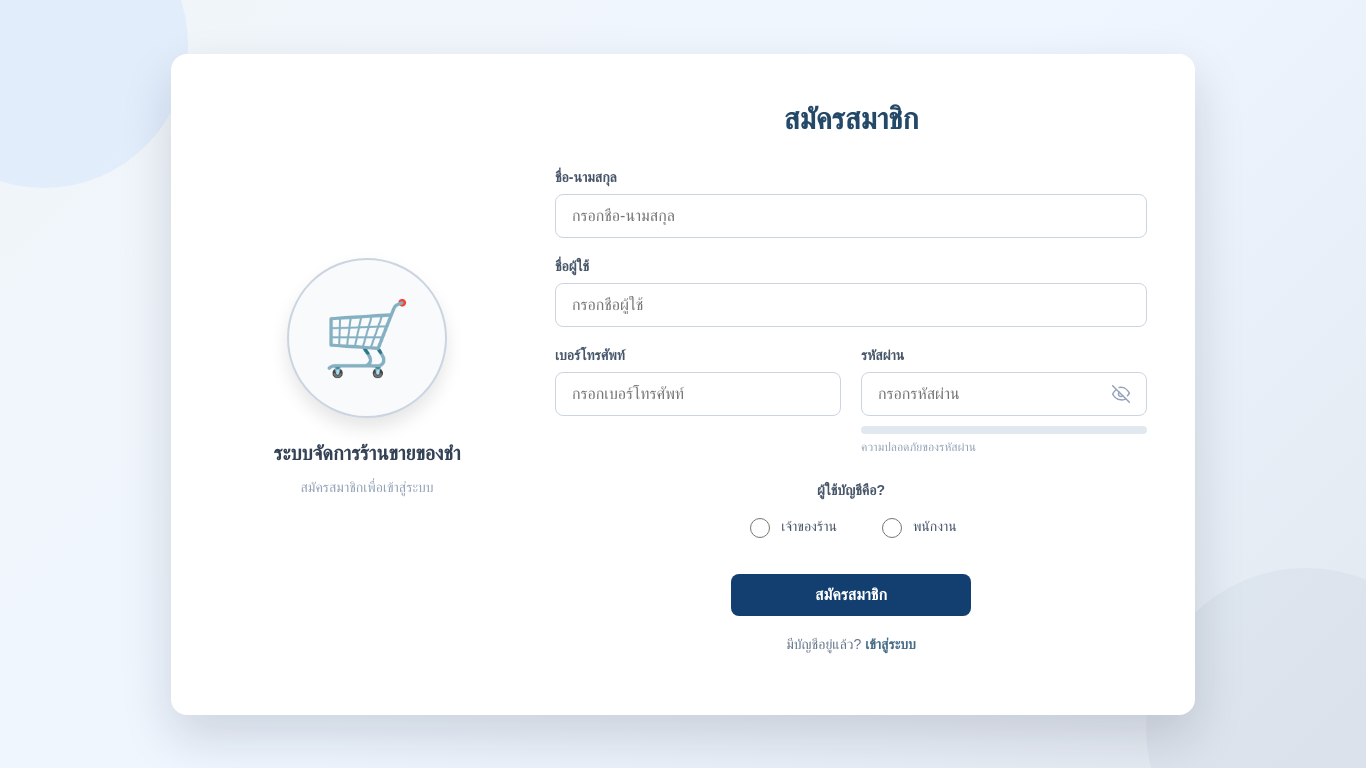
Test: Register page › แจ้งเตือนเมื่อเบอร์โทรศัพท์ไม่ครบ 10 หลัก
In the field labelled "ชื่อ-นามสกุล": [851, 216] box 555,194 -> 1147,238, type "สมชาย ทดสอบ"
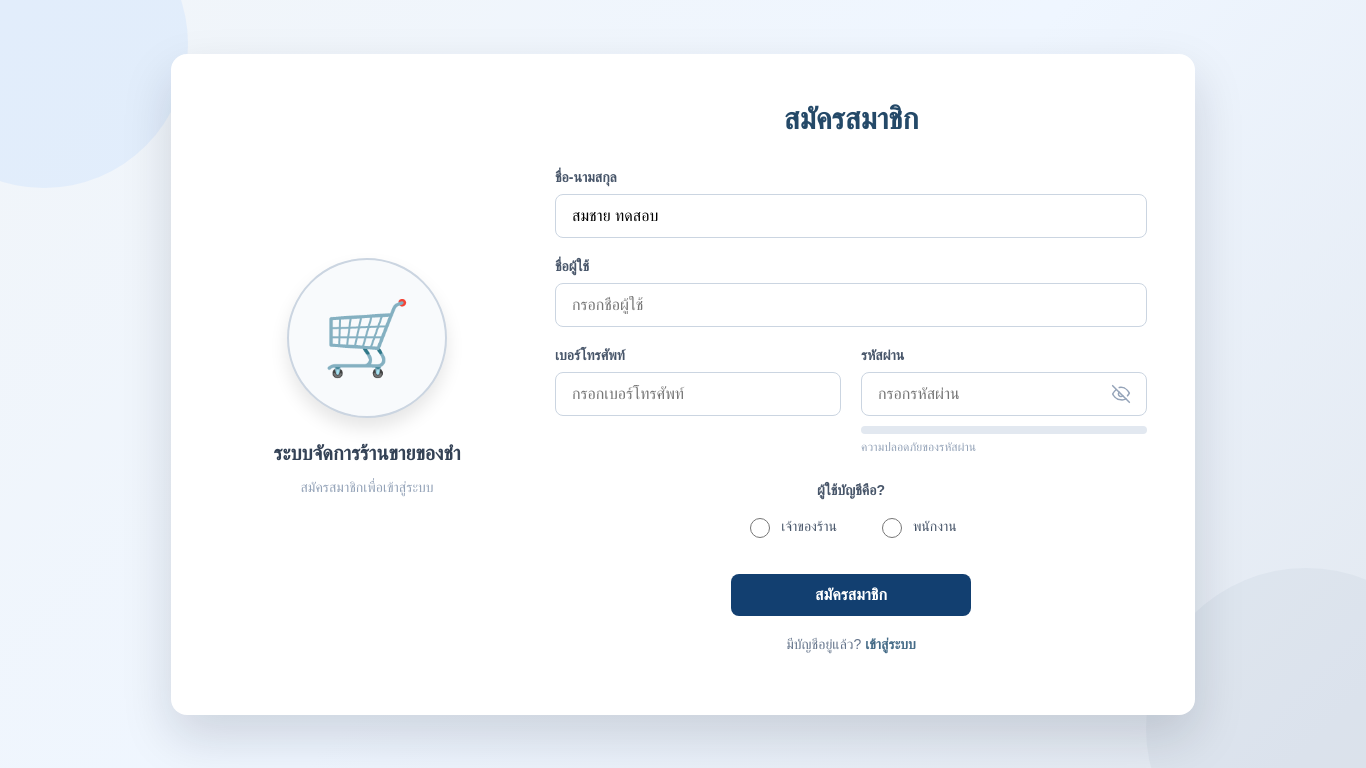
In the field labelled "ชื่อผู้ใช้": [851, 304] box 555,282 -> 1147,326, type "somchai"
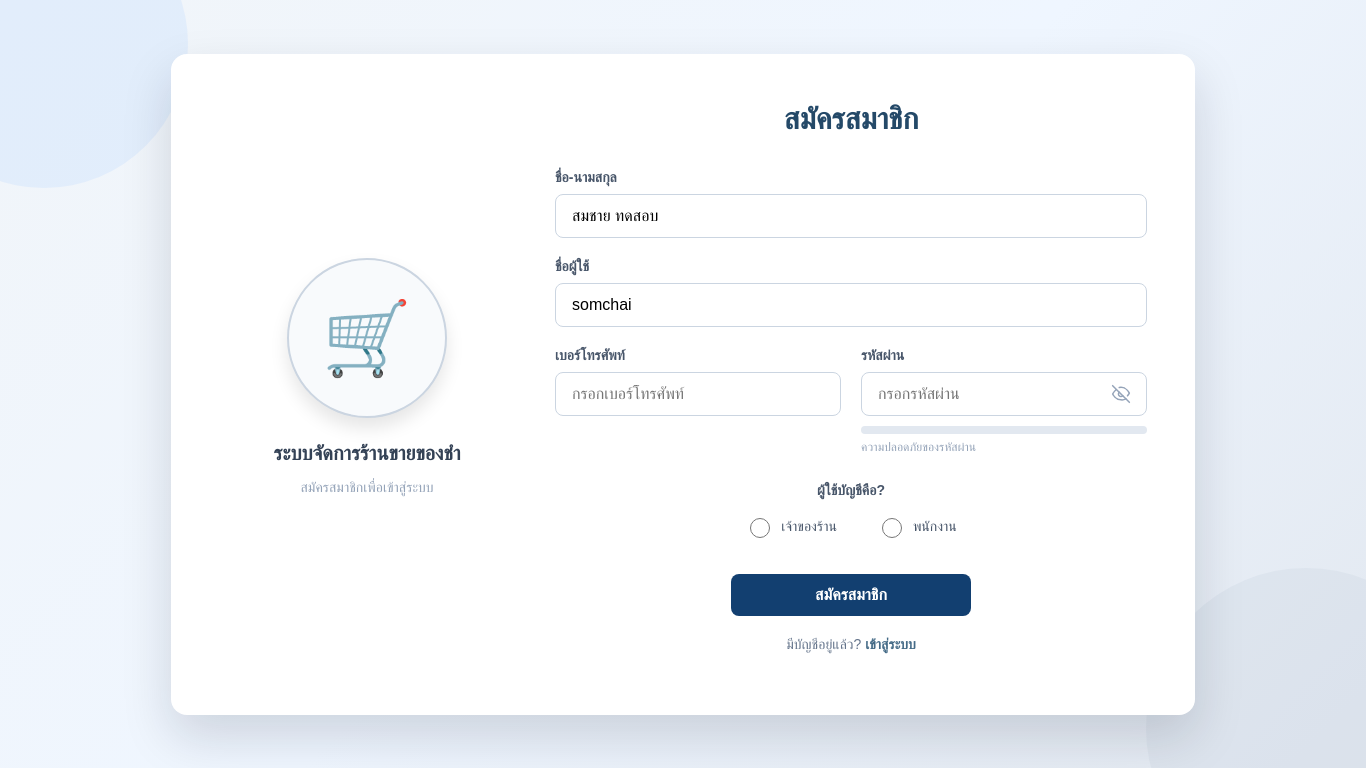
In the field labelled "เบอร์โทรศัพท์": [698, 394] box 555,372 -> 841,416, type "12345"
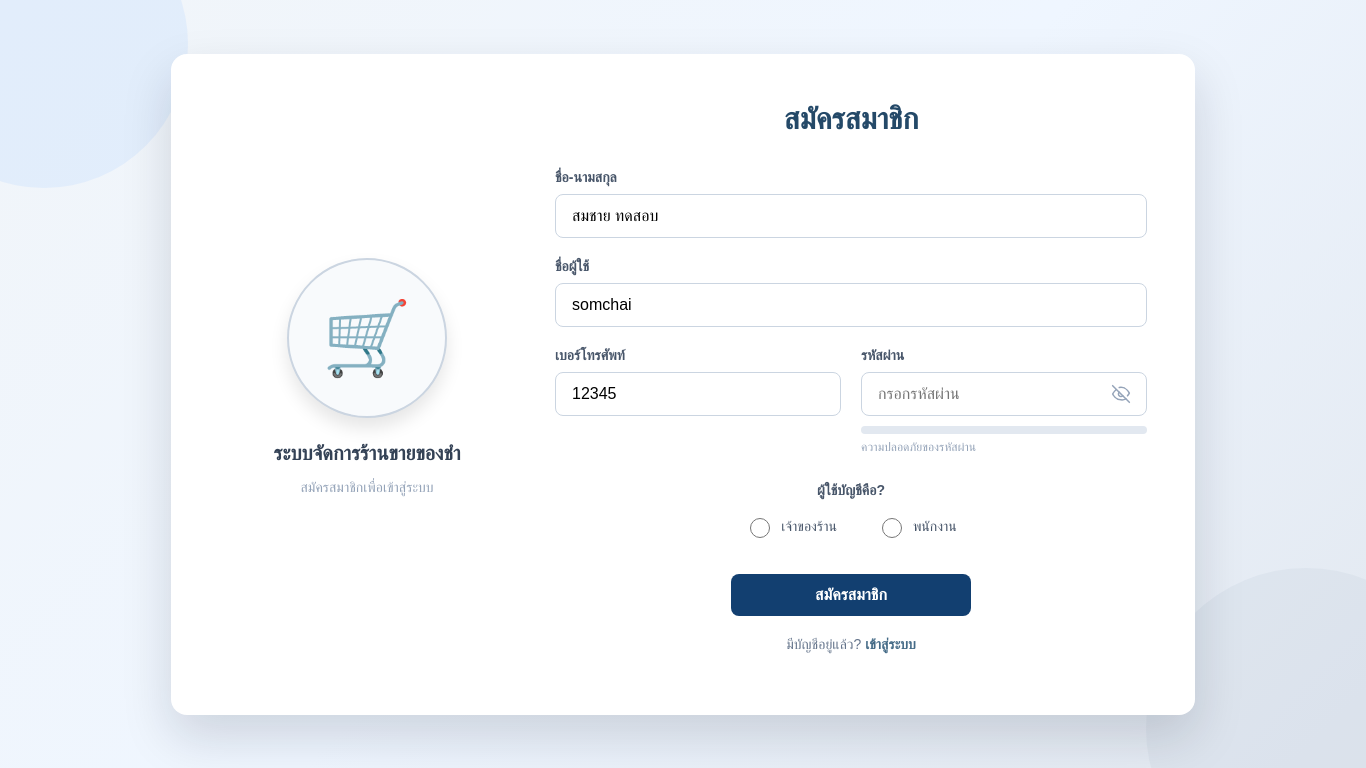
In the password field labelled "รหัสผ่าน": [1004, 394] box 861,372 -> 1147,416, type "abcdef1234"
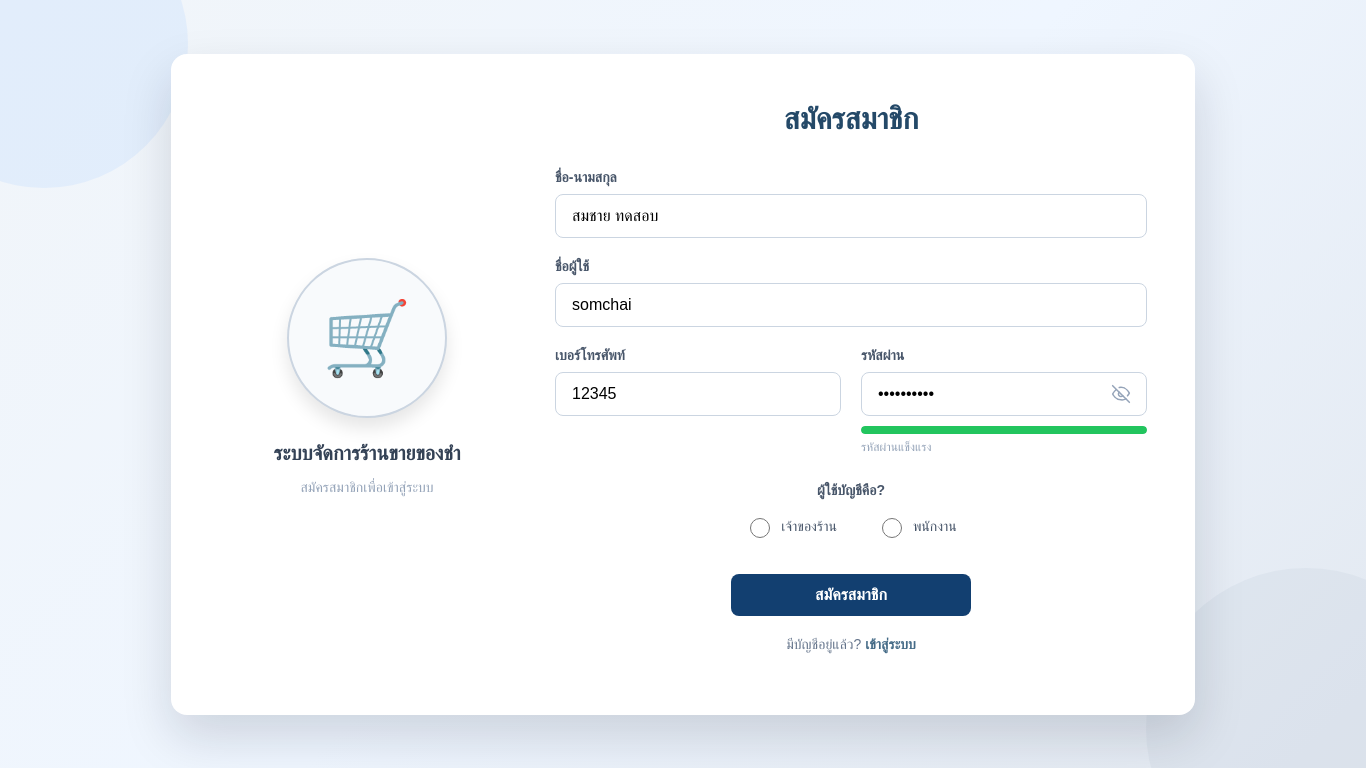
Click the radio button labelled "พนักงาน": [892, 528] box 882,518 -> 902,538
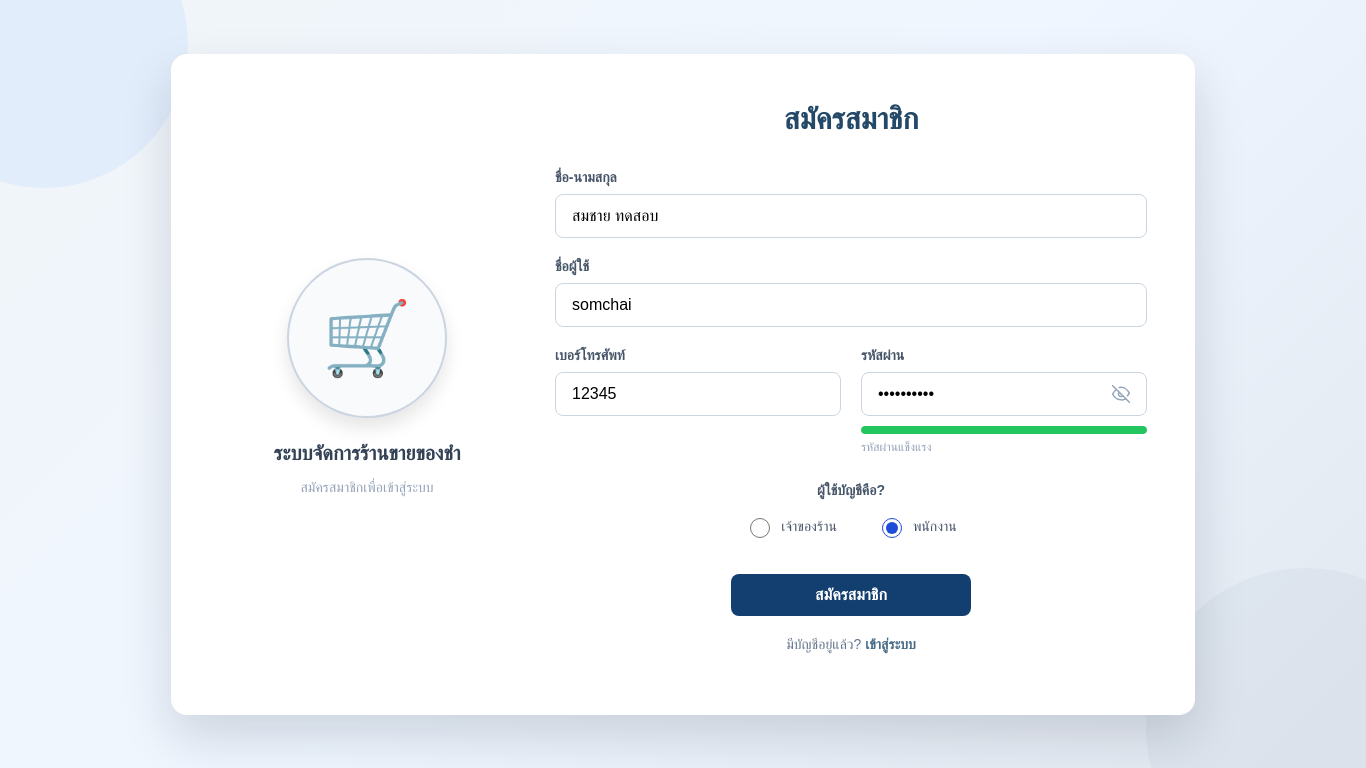
Submit the form with class "register-form", box 555,102 -> 1147,666
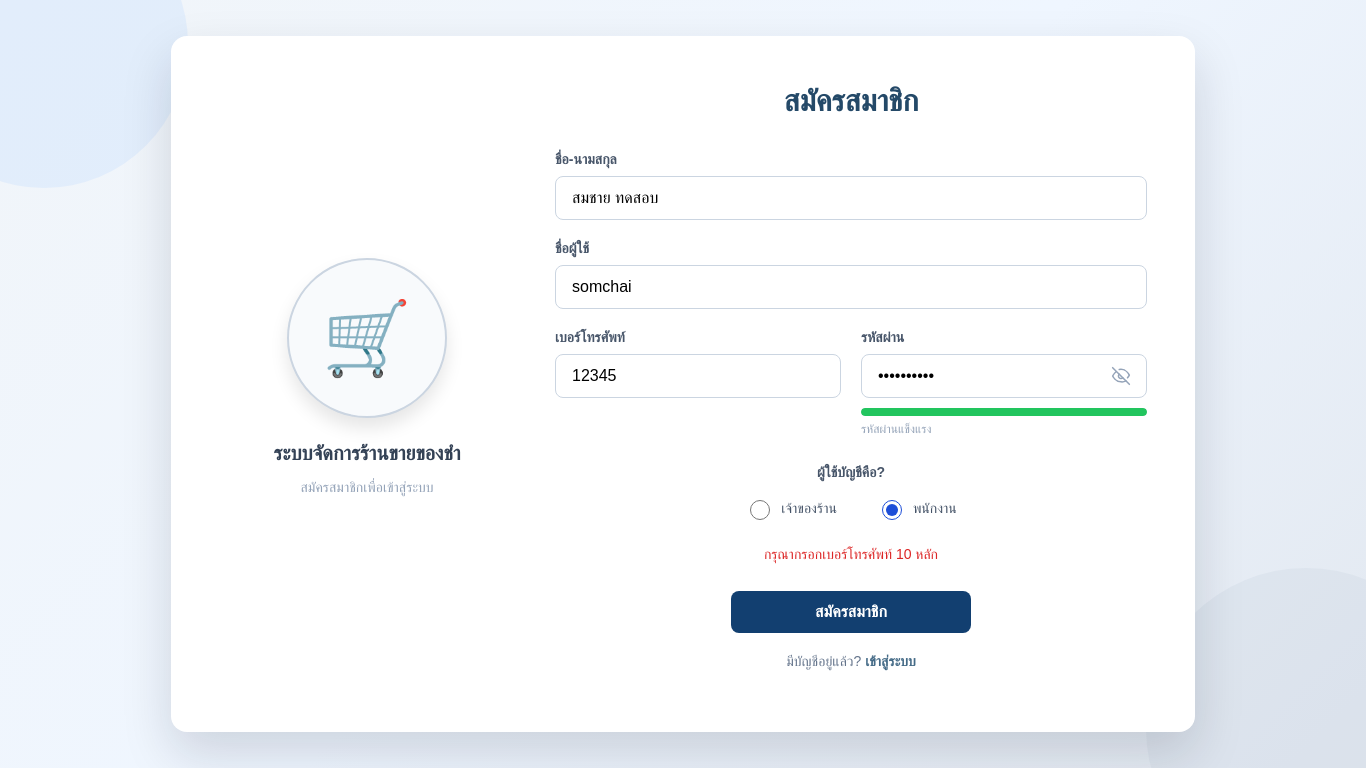
Check: the message reads "กรุณากรอกเบอร์โทรศัพท์ 10 หลัก", box 764,546 -> 938,562
